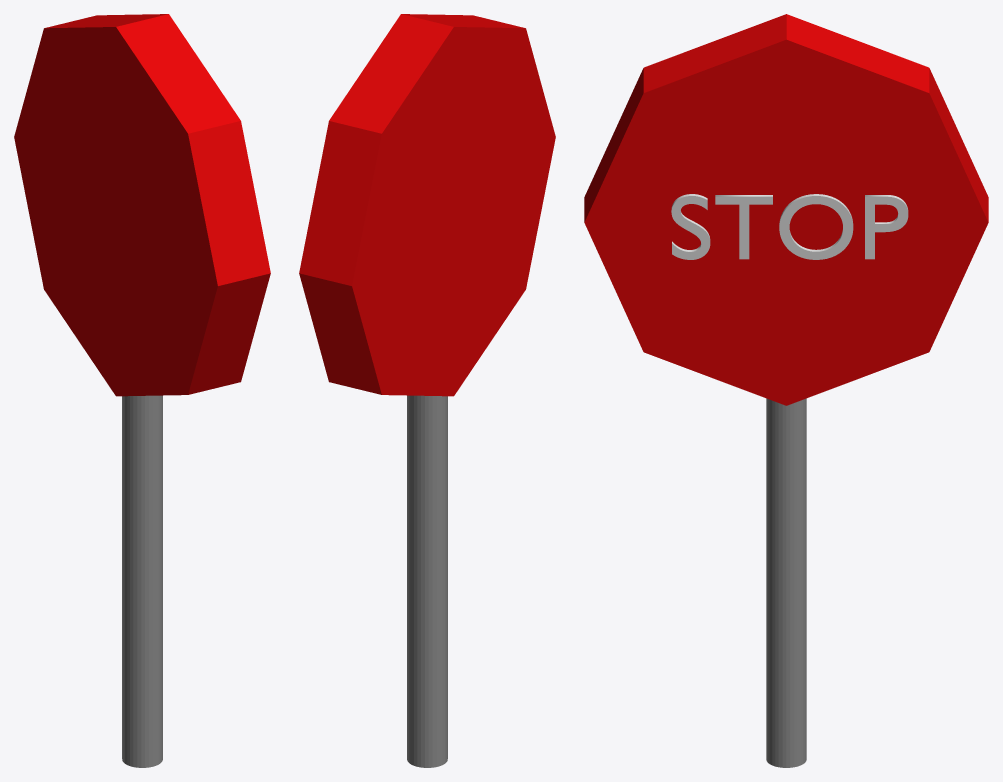
The model's file is StopSign.fbx.
The picture shows the model from 3 angles, left to right: view 1: azimuth 30°, elevation 25°; view 2: azimuth 150°, elevation 25°; view 3: azimuth 270°, elevation 25°; orthographic projection.
Visible parts, largest first — view 1: Cylinder.001, Cylinder; view 2: Cylinder.001, Cylinder; view 3: Cylinder.001, Cylinder, Stop.
Boxes of the visible parts, x1,y1,x2,y2 form: Cylinder.001: (14,14,270,396); Cylinder: (122,395,162,767); Cylinder.001: (299,14,555,396); Cylinder: (407,395,447,767); Cylinder.001: (584,14,988,405); Cylinder: (766,398,806,767); Stop: (671,194,908,259).
Size of the model in its own units: 32.23 by 400 by 200.
